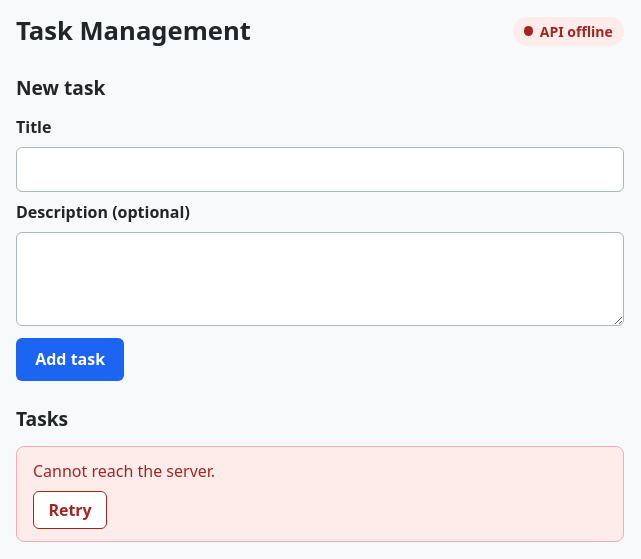
Test: App › shows offline and a retryable list error when the API is down, then recovers
The width and height of the screenshot is (641, 559).
expect the text "API offline" is shown: met, box [513,17,624,46]
expect the message "Cannot reach the server. Retry" is shown: met, box [16,446,624,542]
What coordinates should you click on to do the following:
click the button "Retry"
I would click on:
 (70, 510)
Its box is [33,490,107,529].
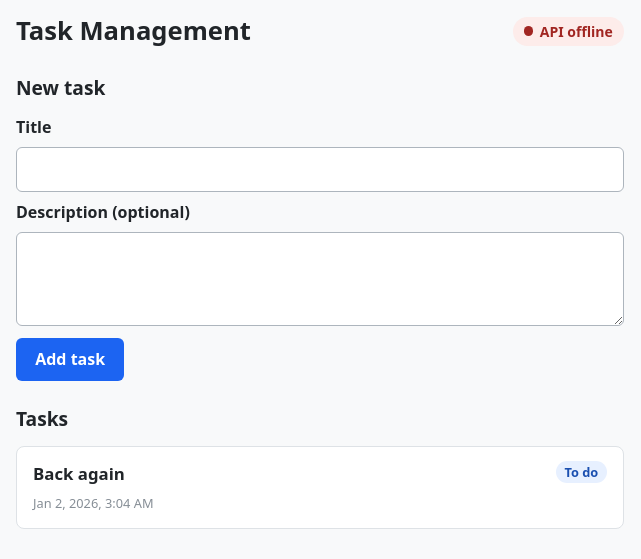
expect the heading "Back again" is shown: met, box [33,461,125,486]
expect the text "Cannot reach the server." is gone: met
